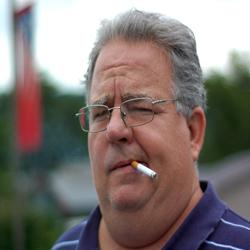smoking: (108, 157, 159, 181)
